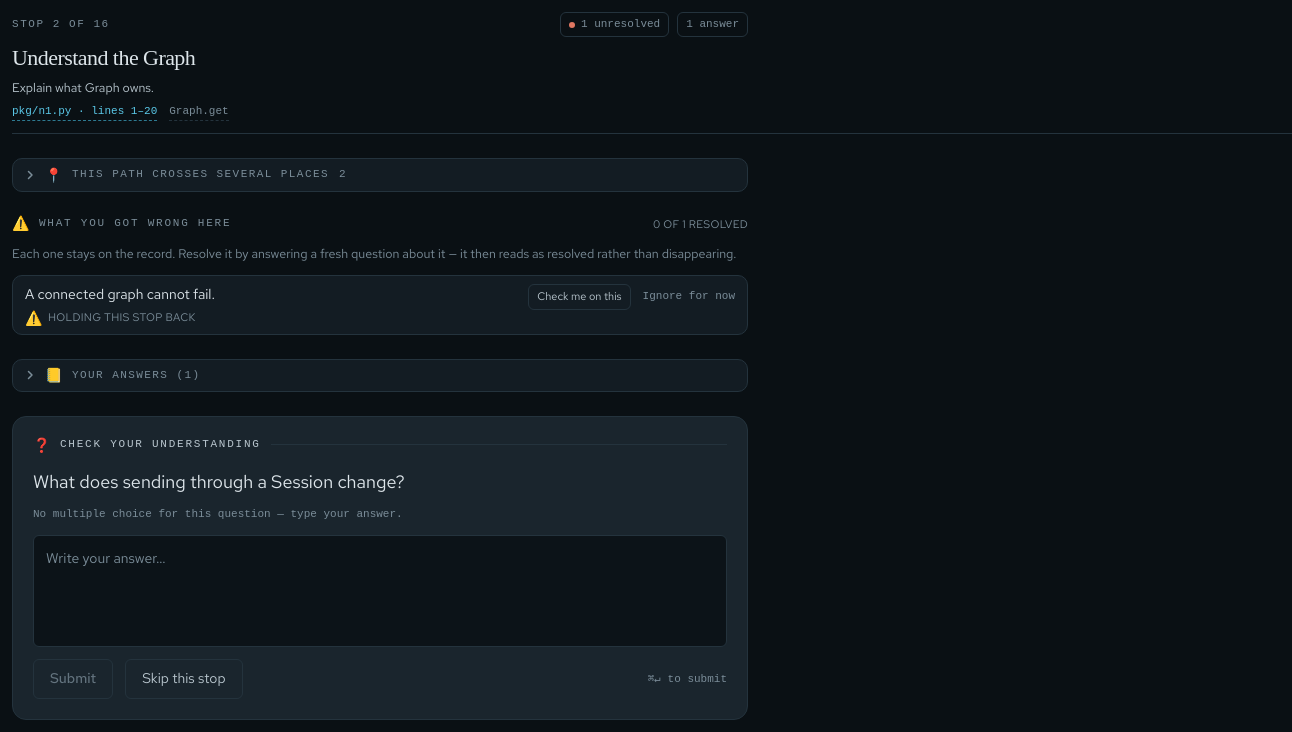
Test case: the question stays re-readable after the verdict › collapsed, with its text, and still exactly one composer
Expected: the text "What does sending through a Session change?" is shown, [33,470,405,493]
In the text box with placeholder "Write your answer…": [380, 591] box [33,535,727,648], type "A wrong answer."
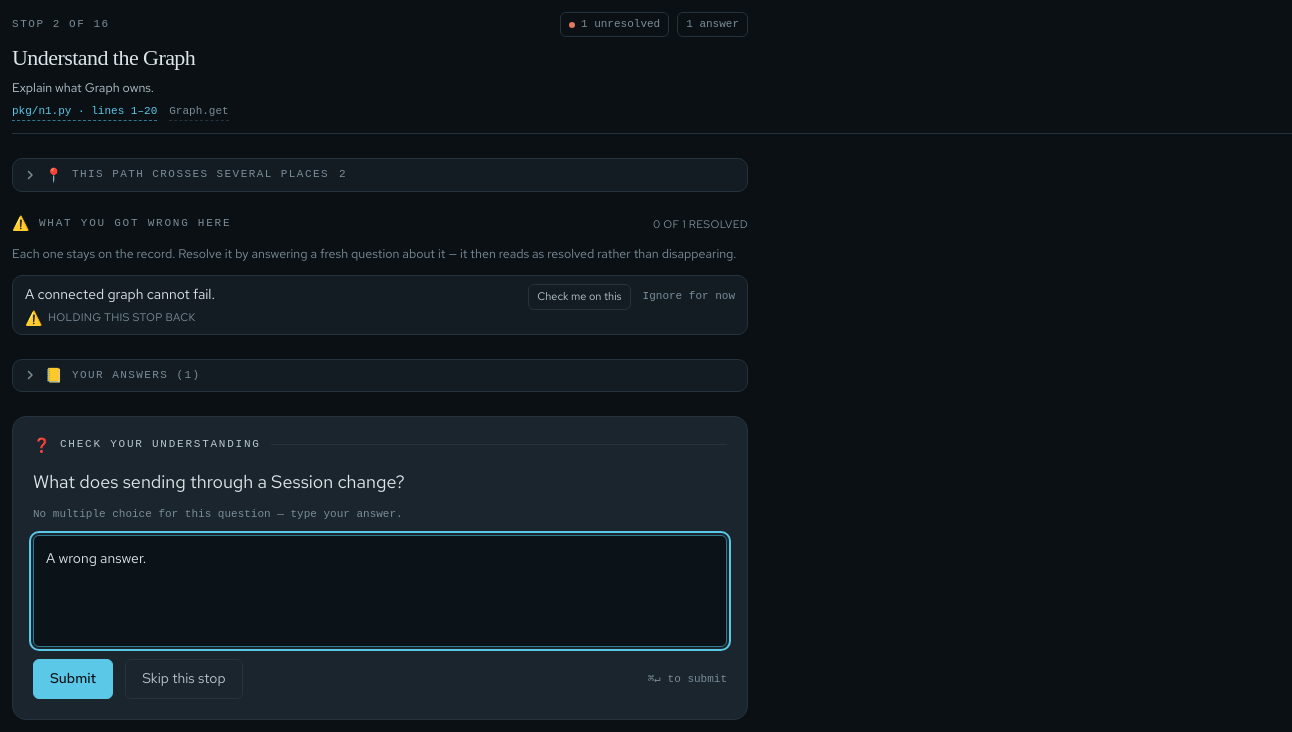
Click the button "Submit": [73, 679] box [33,659,113,699]
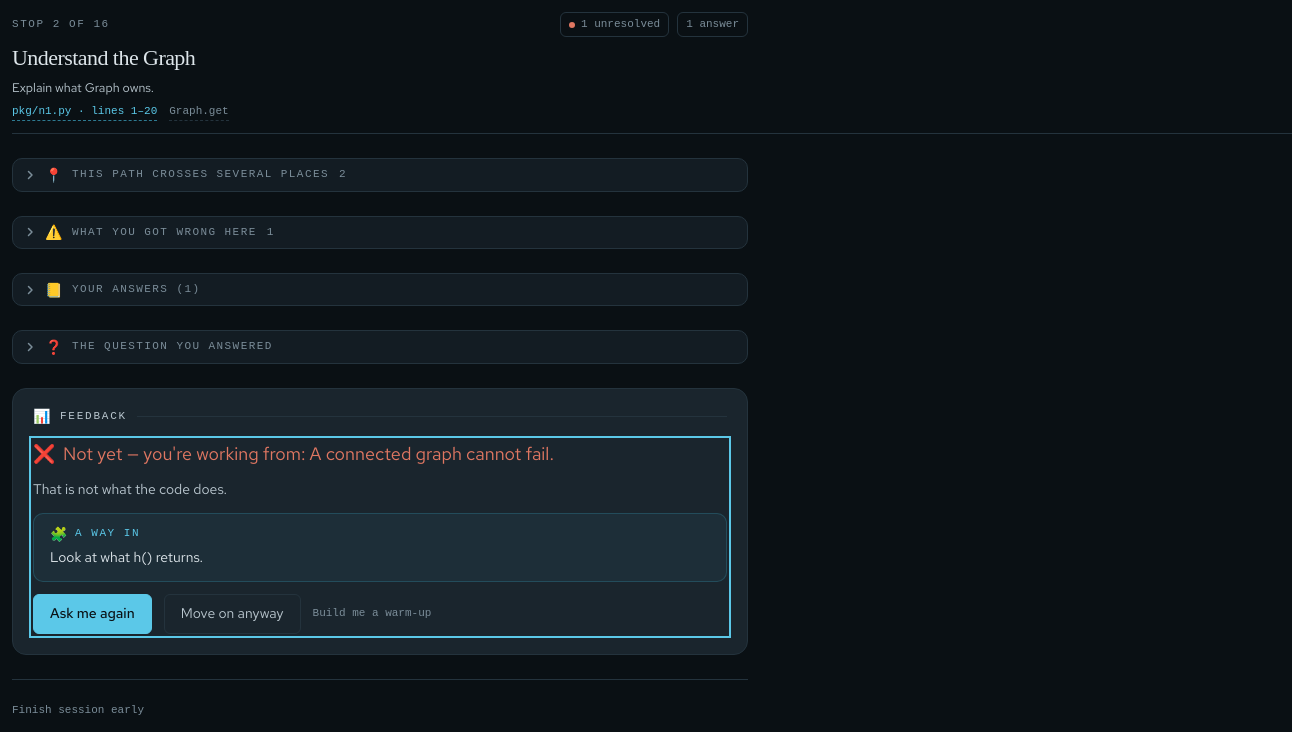
Now the text "That is not what the code does." is shown, box [33,480,227,498]
Now the element showing "❓ The question you answered" is shown, box [12,330,748,364]
